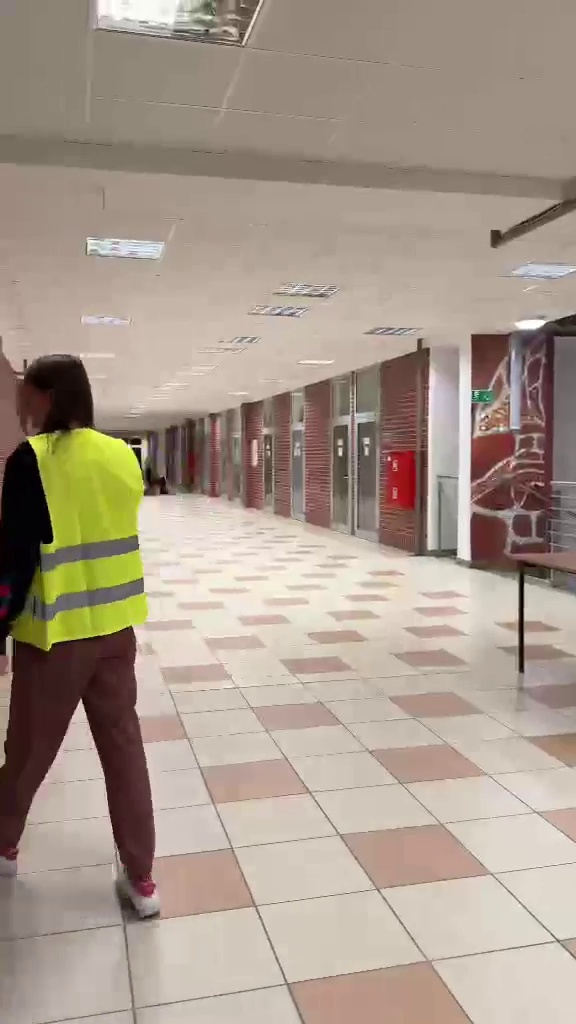vest: (8, 355, 171, 922)
